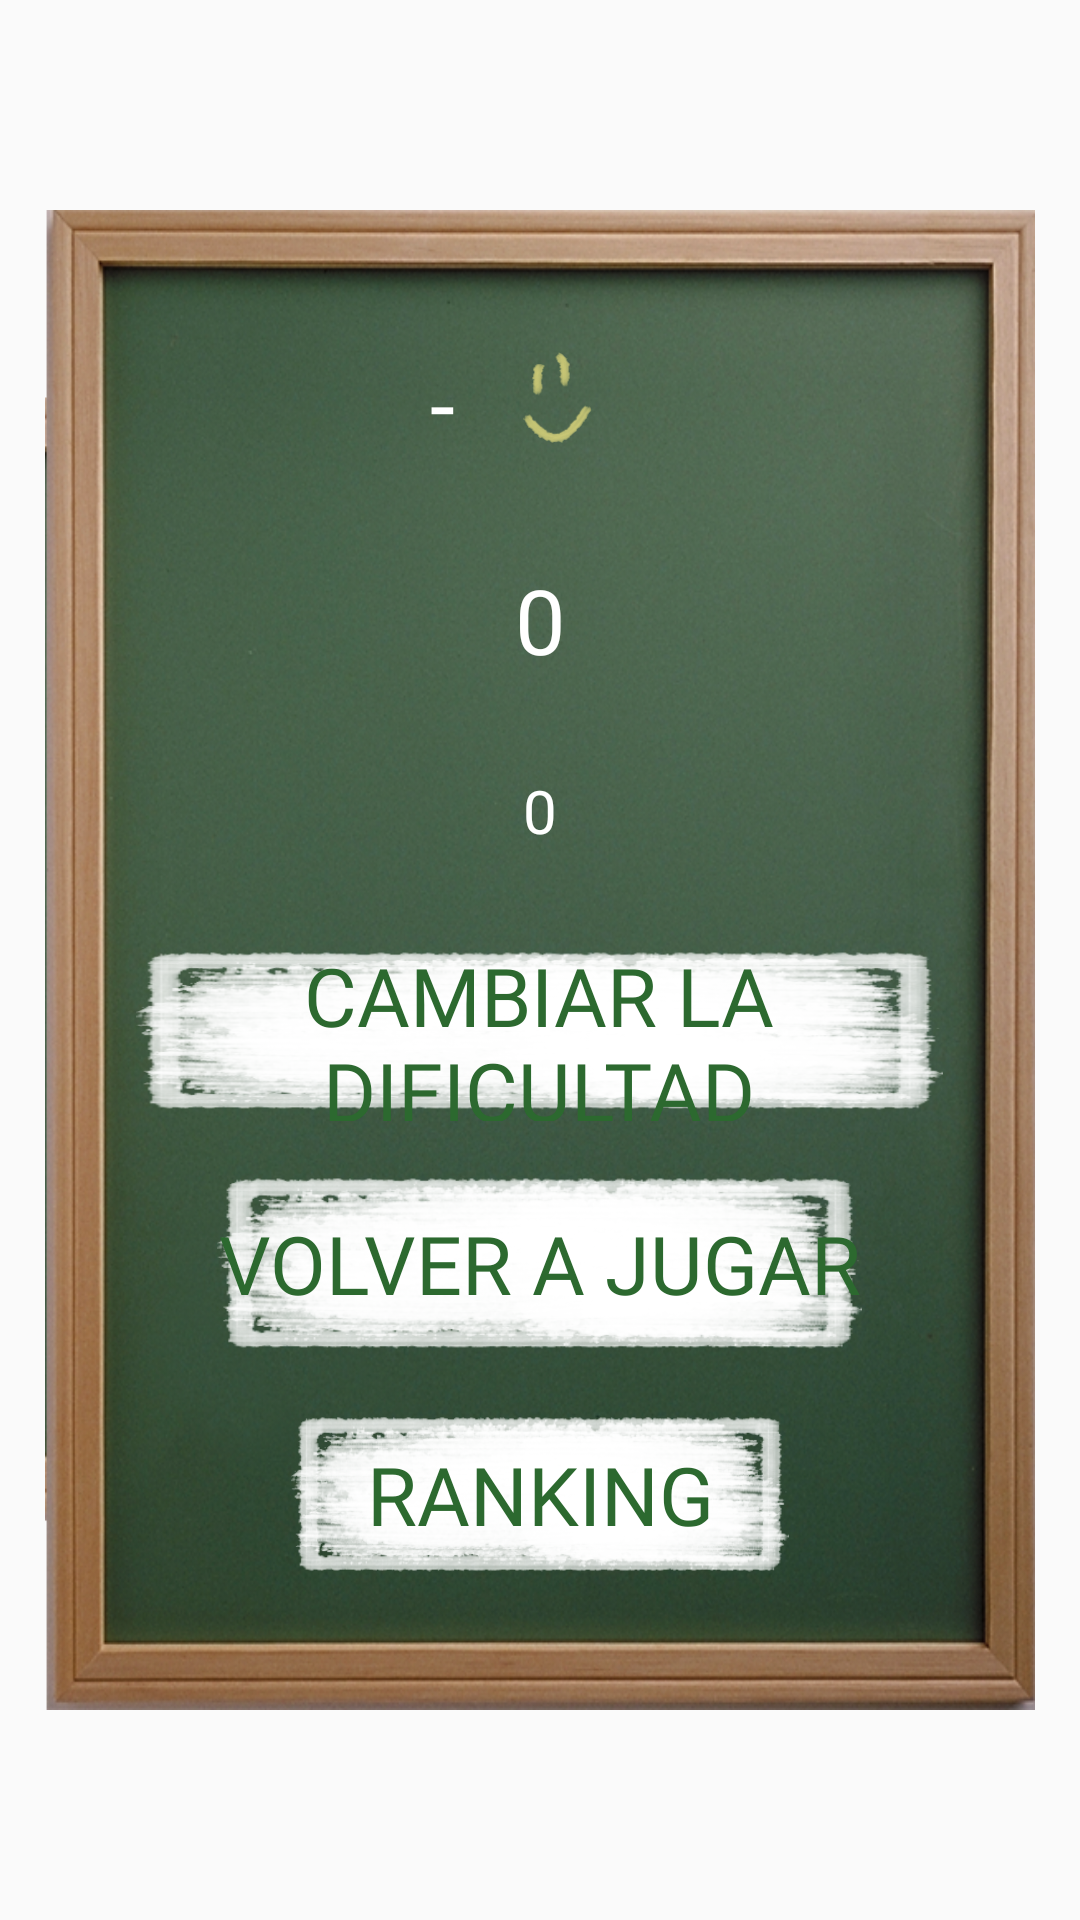

Icons on this 1080x1920 Android screen, each with its box as (x1, y1, x2, y2):
carita feliz: (523, 353, 591, 443)
